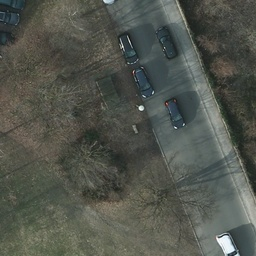car: (132, 68, 155, 101), (165, 98, 185, 130), (119, 33, 136, 62), (157, 28, 172, 57), (1, 11, 20, 28), (1, 1, 25, 9)
